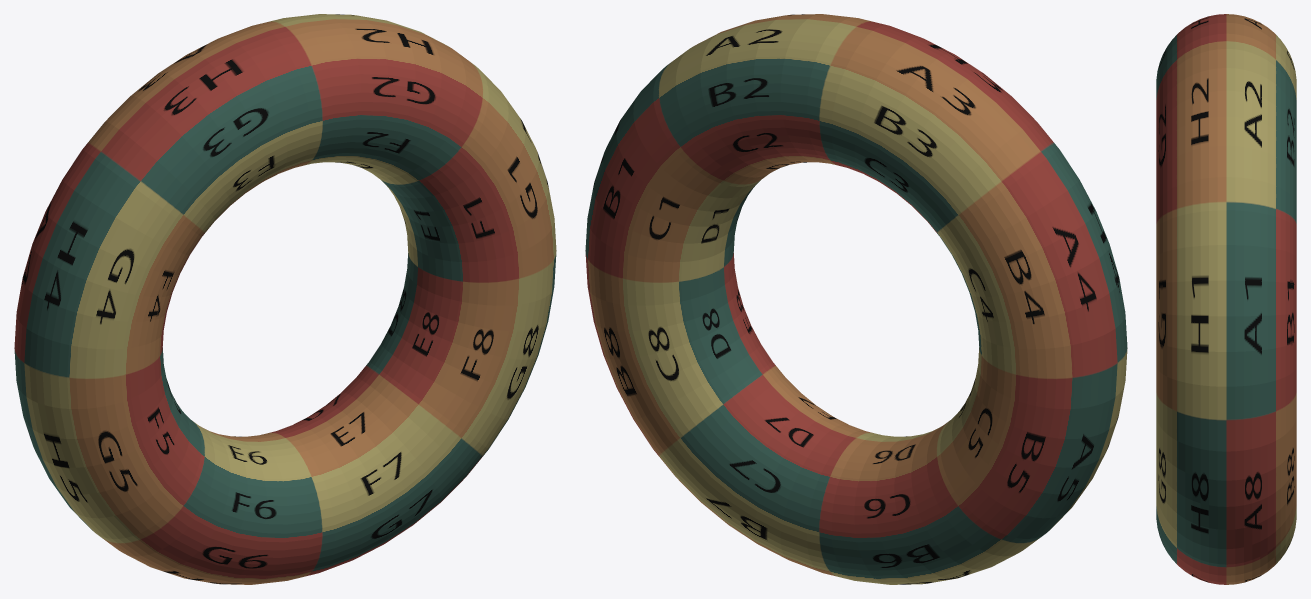
Rendered from texture_torus_R4_r8.glb.
3 views of the same model, side by side, from view 1: azimuth 30°, elevation 25°; view 2: azimuth 150°, elevation 25°; view 3: azimuth 270°, elevation 25° (orthographic). The views are drawn at different scales.
Parts seen in each view (by area): view 1: world; view 2: world; view 3: world.
Part boxes in pixels (x1,y1,x2,y2): world: (14, 14, 556, 584); world: (585, 14, 1127, 584); world: (1156, 14, 1296, 584).
Bounding box in the file's own units: 16.8 × 16.77 × 4.13.
Materials: 1 (1 with a texture image).
